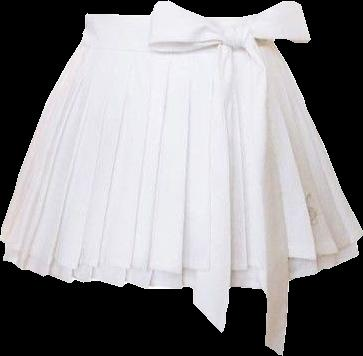Hemline: (0, 232, 362, 274), (1, 254, 359, 291)
Waistline: (77, 37, 276, 53), (84, 11, 260, 21)
